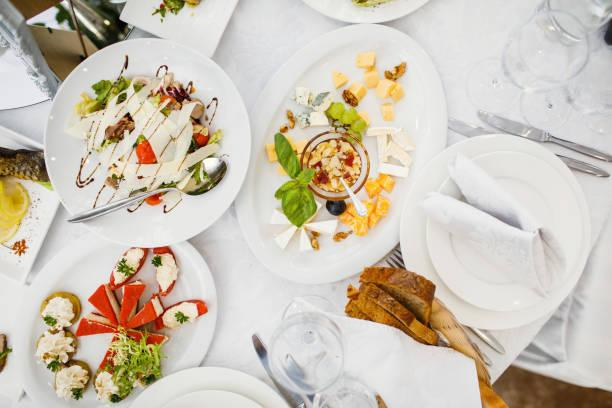Braised Crucian Carp: (239, 24, 447, 281), (43, 37, 248, 248), (11, 233, 219, 407)
